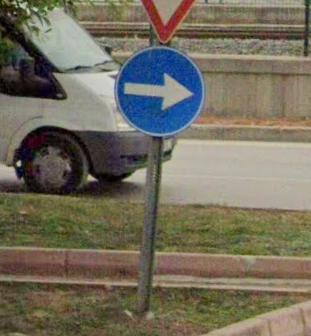turnright: (116, 48, 203, 136)
